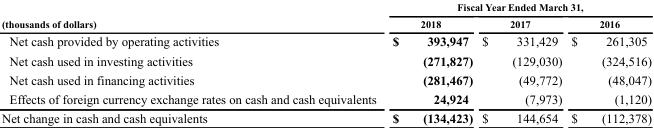table: (0, 1, 650, 124)
table column: (0, 1, 383, 124), (383, 1, 476, 124), (476, 1, 566, 124), (566, 1, 650, 124)
table column header: (0, 1, 650, 31)
table row: (0, 69, 650, 89), (0, 31, 650, 50), (0, 50, 650, 69), (0, 89, 650, 108), (0, 15, 650, 31), (0, 108, 650, 124), (0, 1, 650, 15)
table spanning cell: (0, 1, 383, 31), (383, 1, 650, 15)
